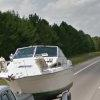Boat: (3, 38, 77, 97)
